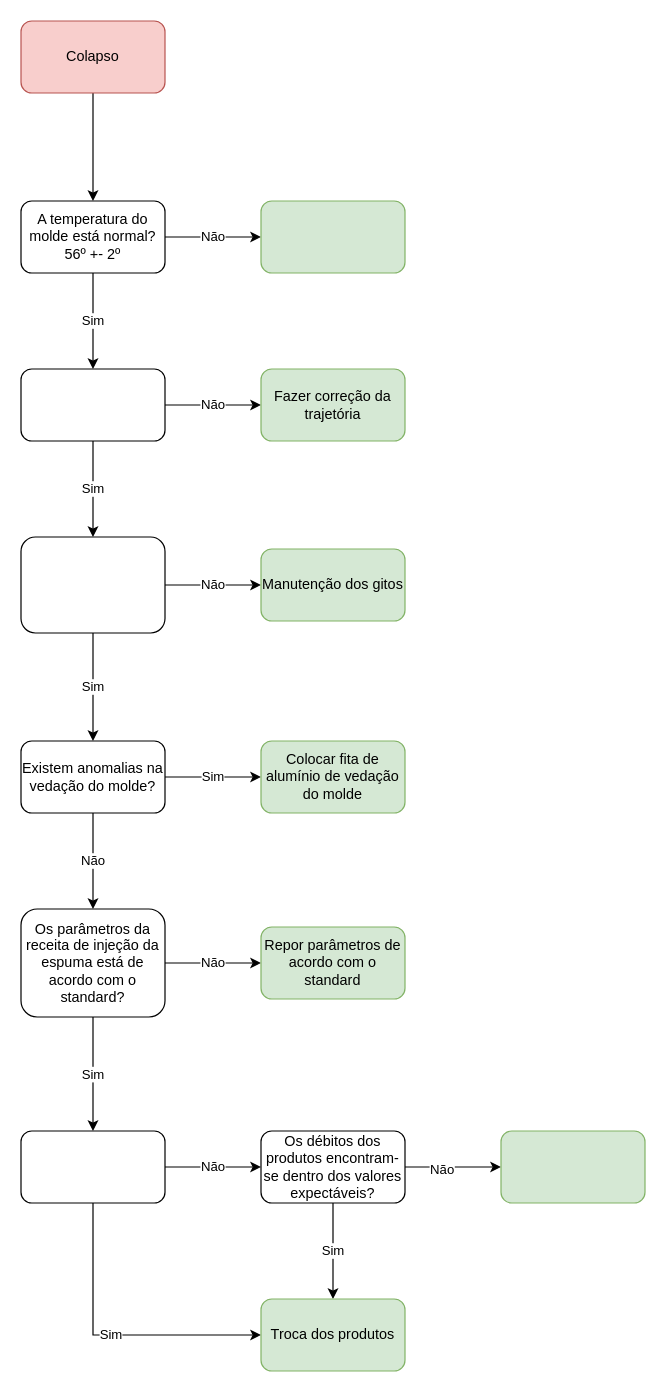
This 666x1392 diagram has some shape labels left out. Each missing label, with the centre of its shape:
A trajetória de injeção está de acordo com o standard?: the point at 92,404
Ajuste de temperatura: the point at 332,236
Corrigir o débito dos produtos: the point at 572,1166
O estado de funcionamento dos gitos de desgaseificação é o correto?: the point at 92,584
O teste FoamMat foi realizado com sucesso?: the point at 92,1166
